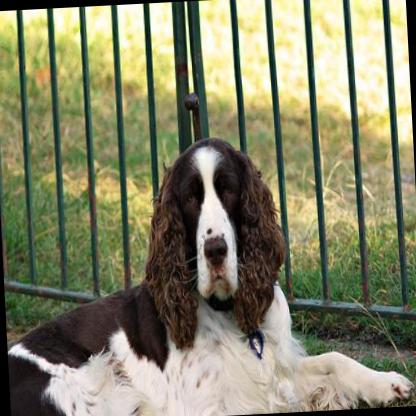English_springer: (0, 121, 414, 416)
